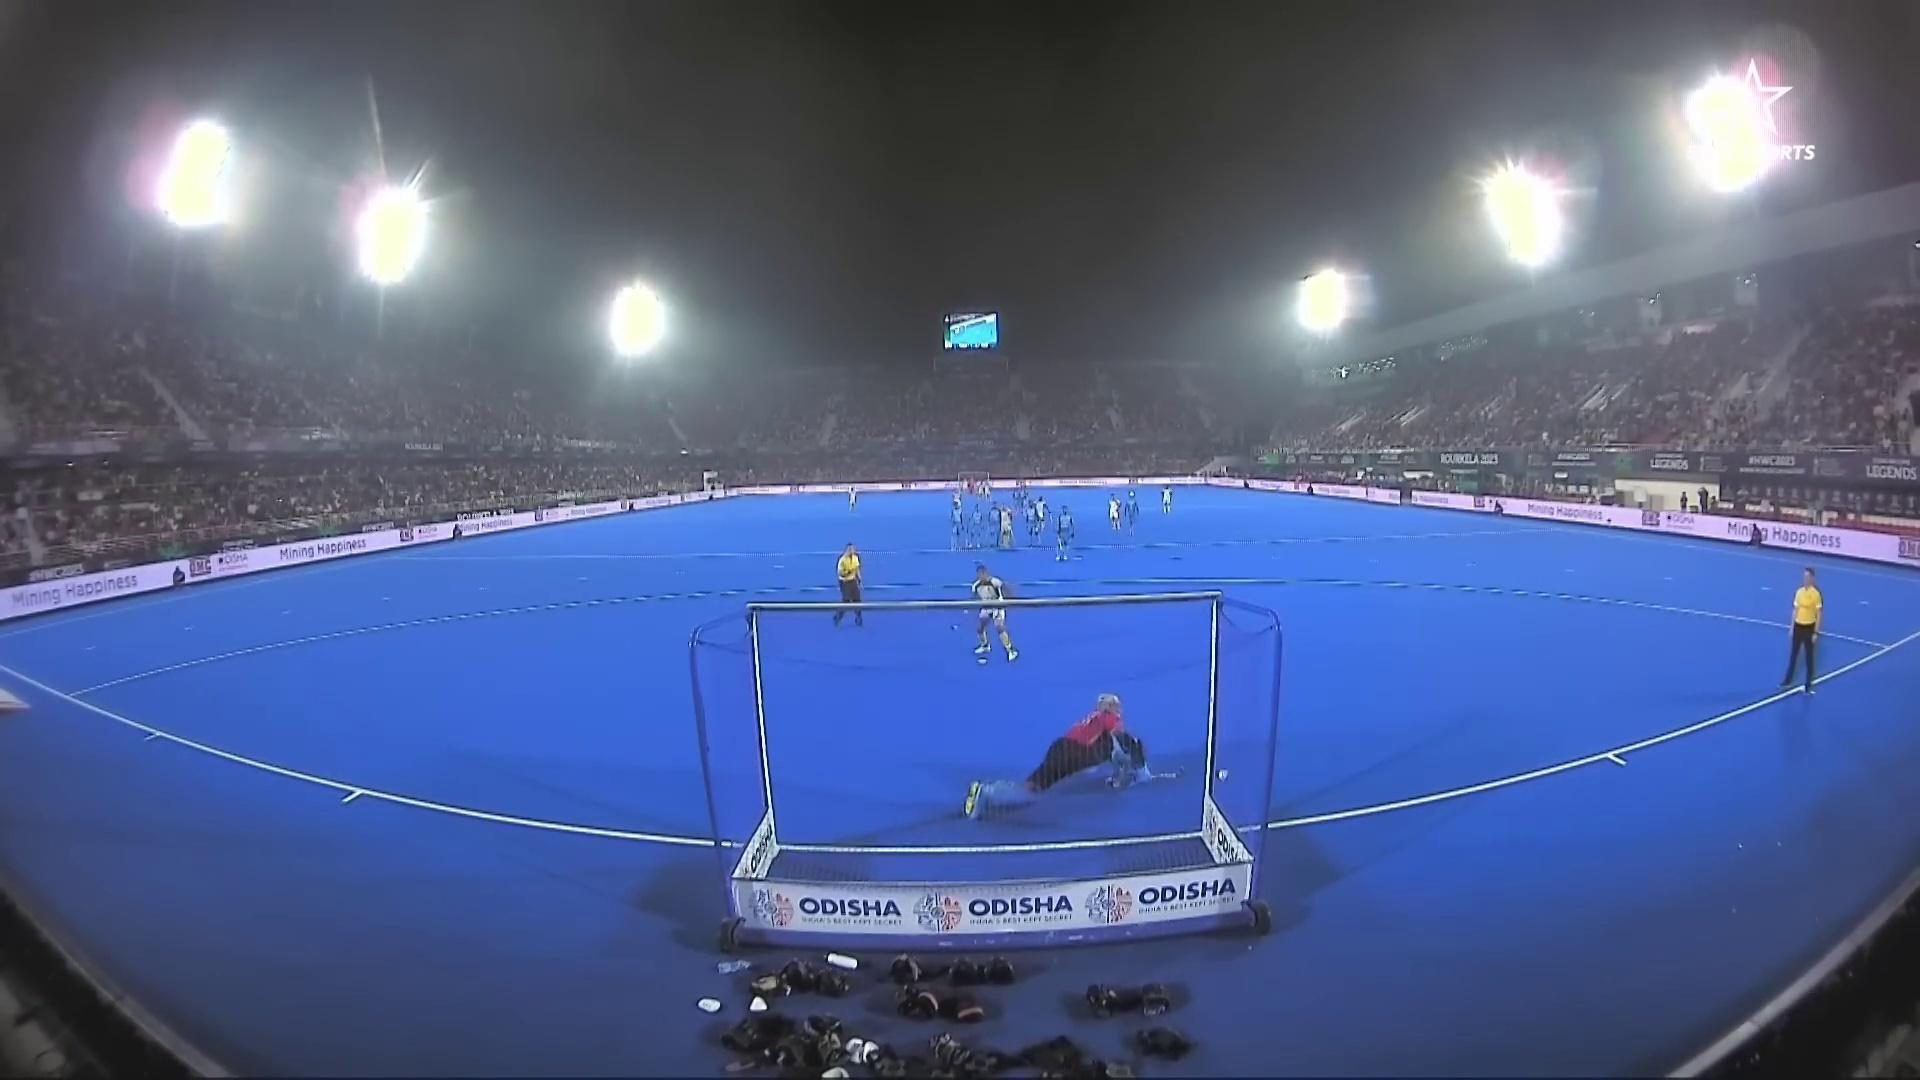ball: (1217, 767, 1229, 781)
